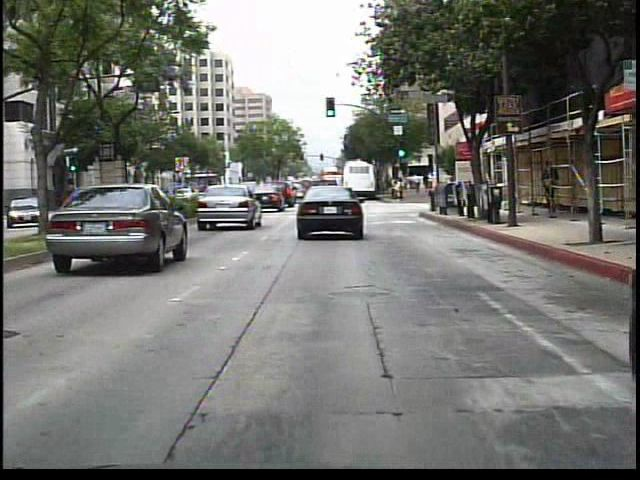person: (536, 157, 562, 220)
